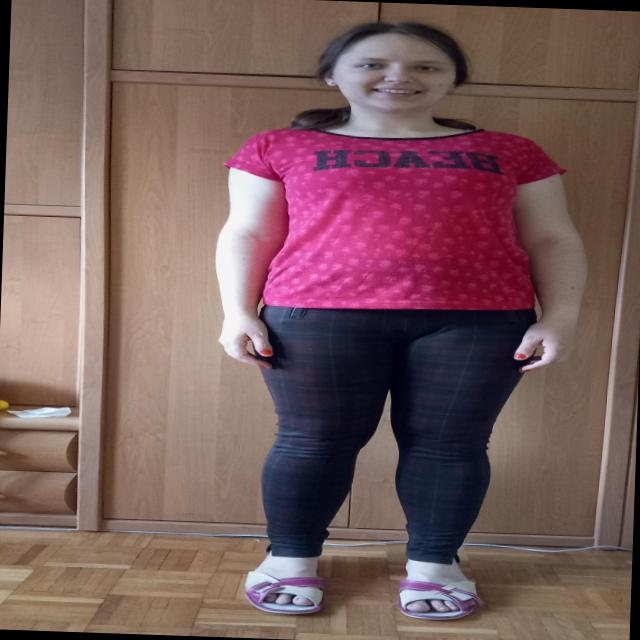Tshirt: (218, 120, 568, 318)
pants: (246, 300, 540, 568)
